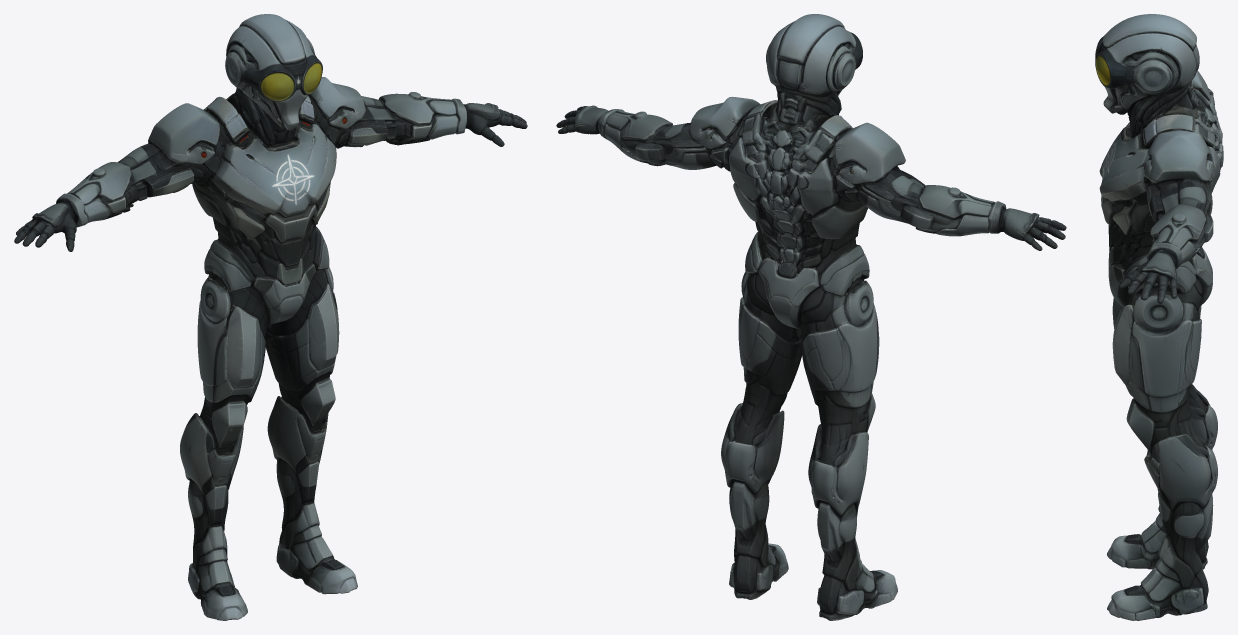
File: explorer.glb
The picture shows the model from 3 angles, left to right: view 1: azimuth 30°, elevation 25°; view 2: azimuth 150°, elevation 25°; view 3: azimuth 270°, elevation 25°; orthographic projection.
Parts seen in each view (by area): view 1: Mesh_0; view 2: Mesh_0; view 3: Mesh_0.
Part boxes in pixels (left/top/right/bottom): Mesh_0: left=14, top=14, right=527, bottom=620; Mesh_0: left=556, top=14, right=1066, bottom=620; Mesh_0: left=1095, top=14, right=1223, bottom=620.
Bounding box in the file's own units: 1.74 × 1.9 × 0.3888.
Materials: 1 (1 with a texture image).
